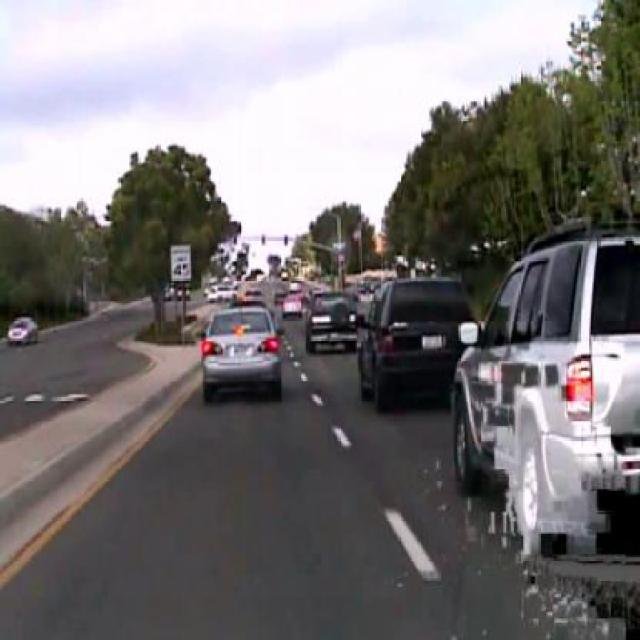speedLimit45: (171, 244, 192, 280)
